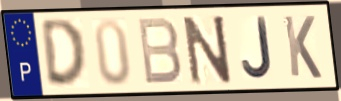0: (92, 16, 133, 88)
B: (135, 16, 184, 87)
D: (38, 17, 89, 91)
J: (239, 15, 275, 82)
K: (281, 13, 324, 81)
N: (180, 13, 235, 87)
